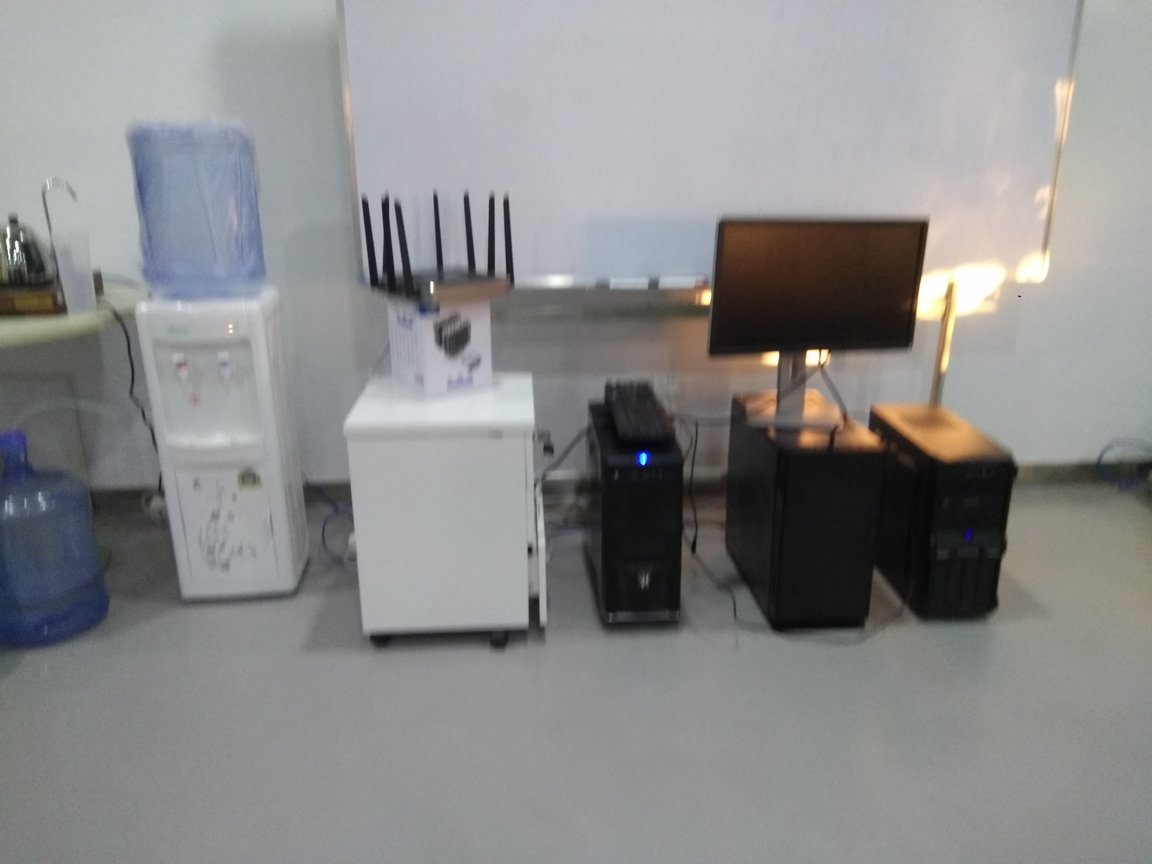computer: (729, 383, 872, 631), (866, 398, 1016, 623), (580, 399, 689, 639)
drawer chest: (347, 371, 549, 651)
monitor: (713, 214, 929, 426)
scuttlebutt: (125, 119, 275, 298), (1, 431, 108, 655)
water dispenser: (133, 290, 310, 603)
